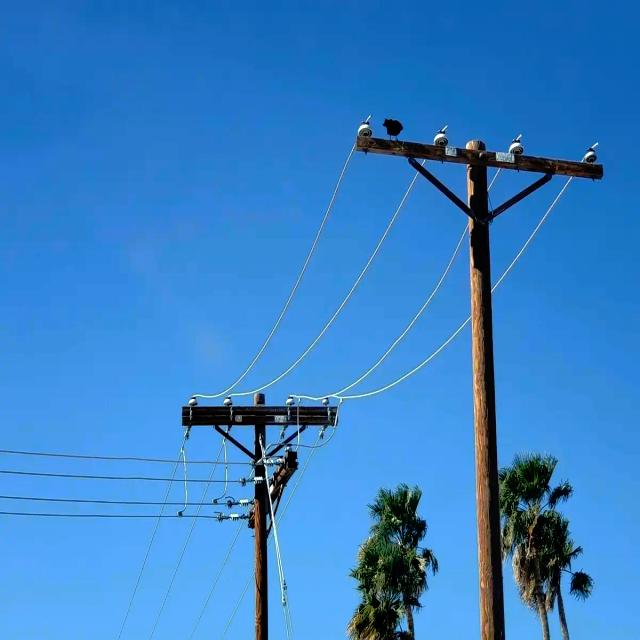obstruction: (383, 119, 404, 139)
poles: (354, 122, 604, 639), (182, 393, 338, 639)
wires: (198, 146, 468, 404), (2, 431, 250, 634), (285, 228, 473, 411)
